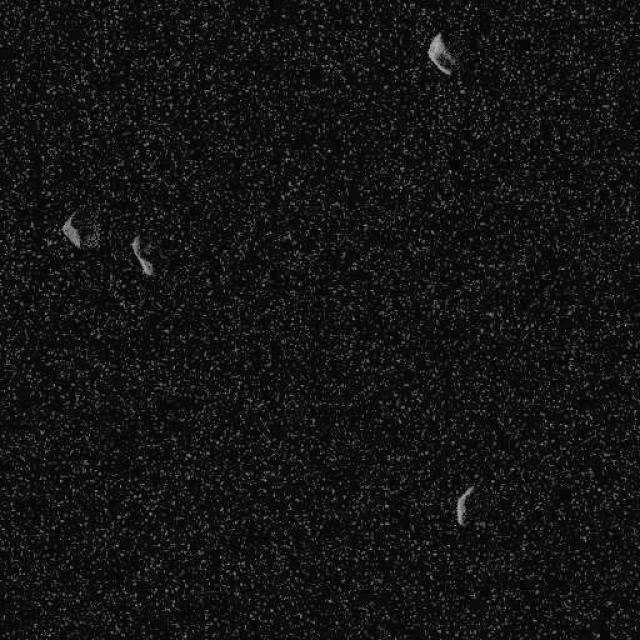D2: (60, 208, 101, 252), (427, 32, 458, 76), (130, 234, 154, 276), (454, 484, 475, 526), (60, 214, 82, 248)
